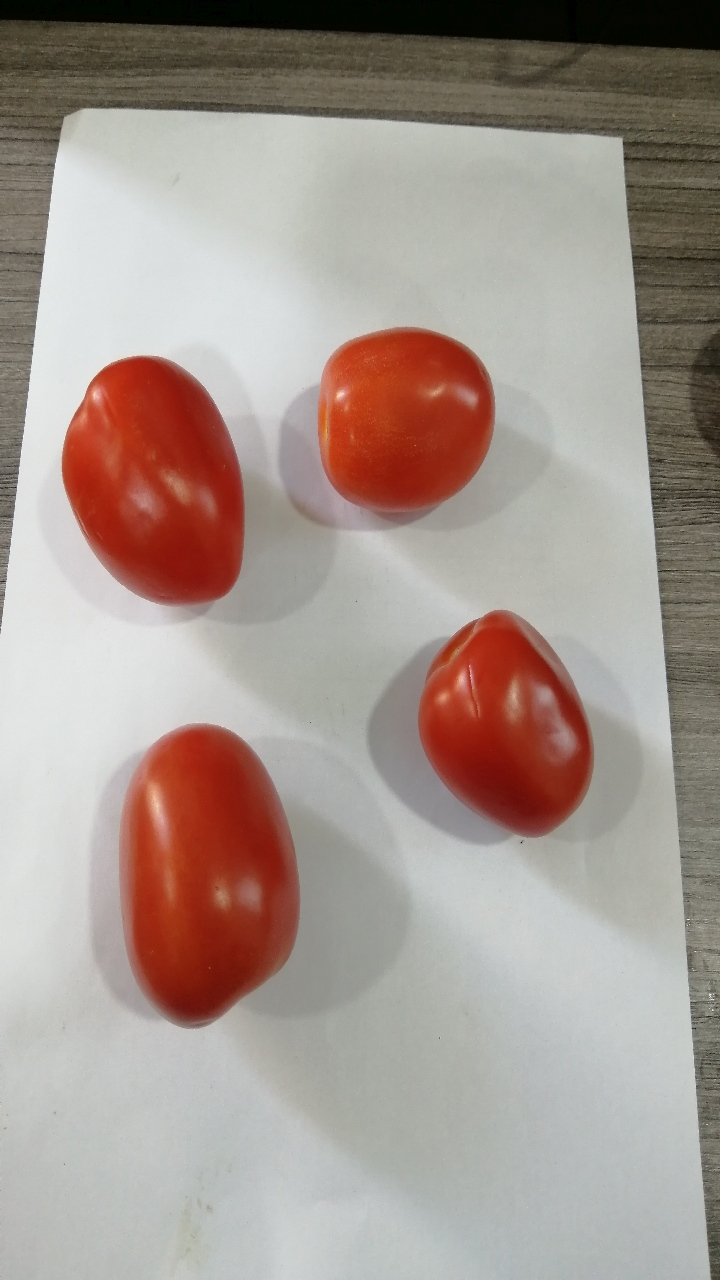tomateRojo: (101, 695, 324, 1049), (51, 342, 263, 632), (401, 580, 606, 854), (292, 311, 537, 529)
